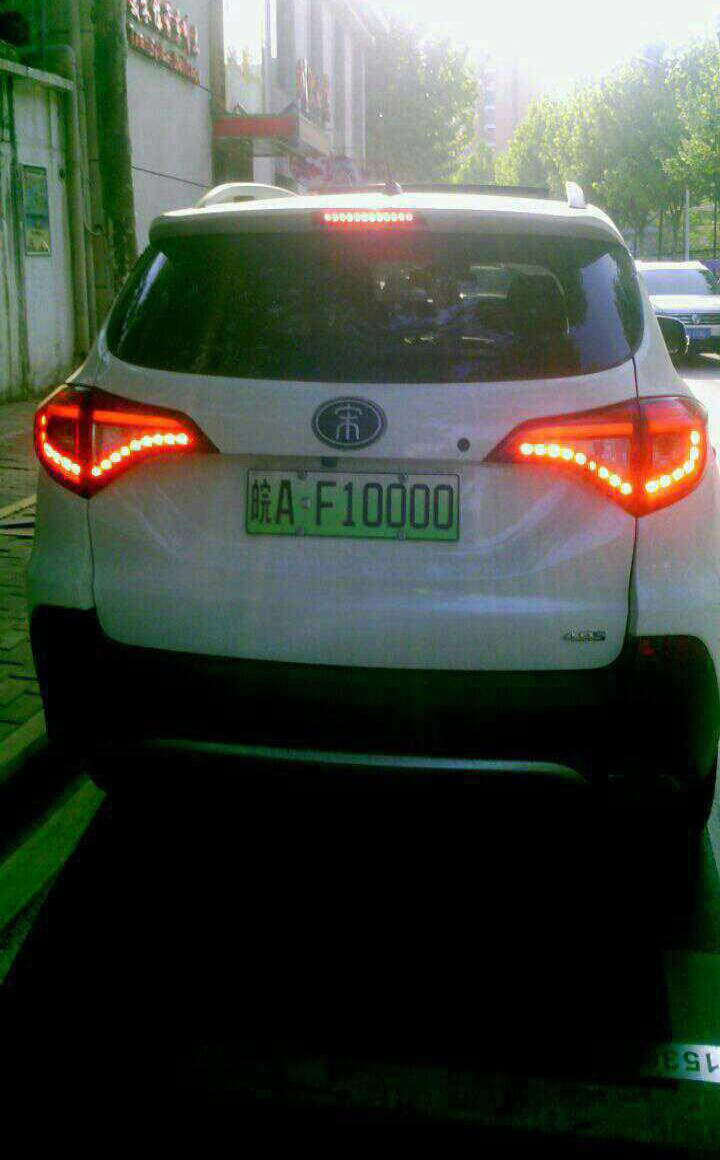car_green: (244, 469, 465, 537)
